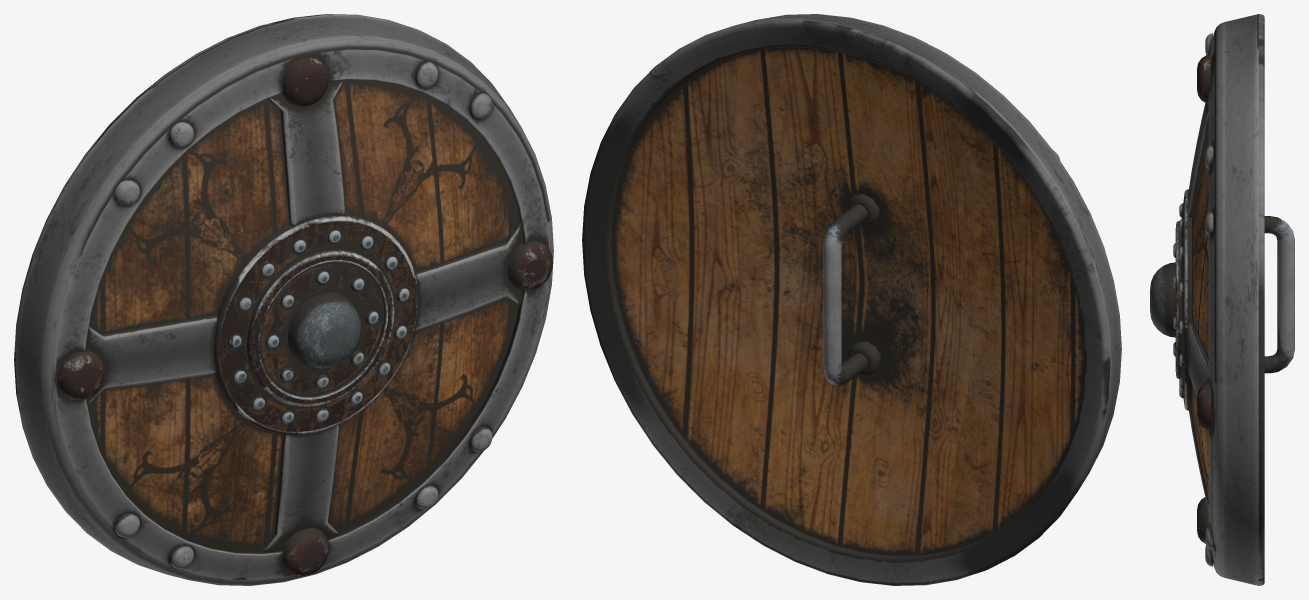
The model's file is shield_wood2.glb.
The picture shows the model from 3 angles, left to right: view 1: azimuth 30°, elevation 25°; view 2: azimuth 150°, elevation 25°; view 3: azimuth 270°, elevation 25°; orthographic projection. The views are drawn at different scales.
Parts seen in each view (by area): view 1: Null_1, Cloner; view 2: Null_1, Sweep, Sweep_1; view 3: Null_1, Cloner, Sweep.
Boxes of the visible parts, x1,y1,x2,y2 form: Null_1: [14, 14, 553, 585]; Cloner: [57, 57, 553, 576]; Null_1: [582, 14, 1121, 585]; Sweep: [823, 204, 867, 385]; Sweep_1: [847, 194, 880, 375]; Null_1: [1150, 14, 1264, 585]; Cloner: [1173, 33, 1213, 566]; Sweep: [1264, 216, 1294, 373].
Bounding box in the file's own units: 6.51 × 6.5 × 1.65.
1 material, 1 textured.
